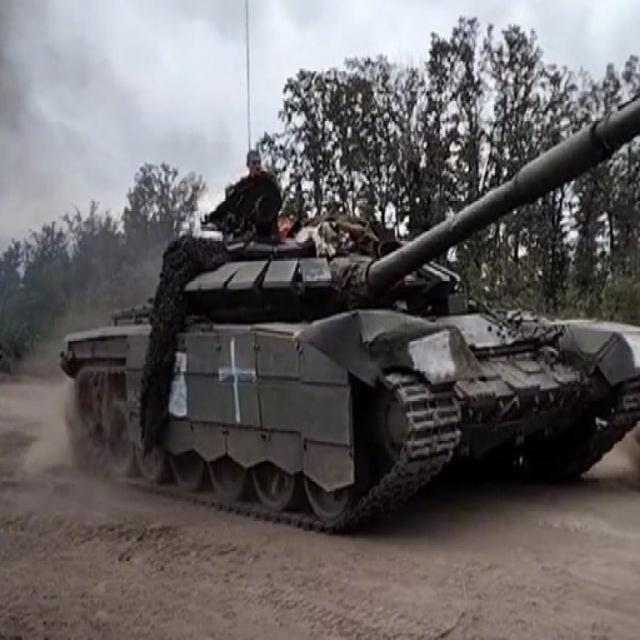TANK: (45, 93, 639, 518)
